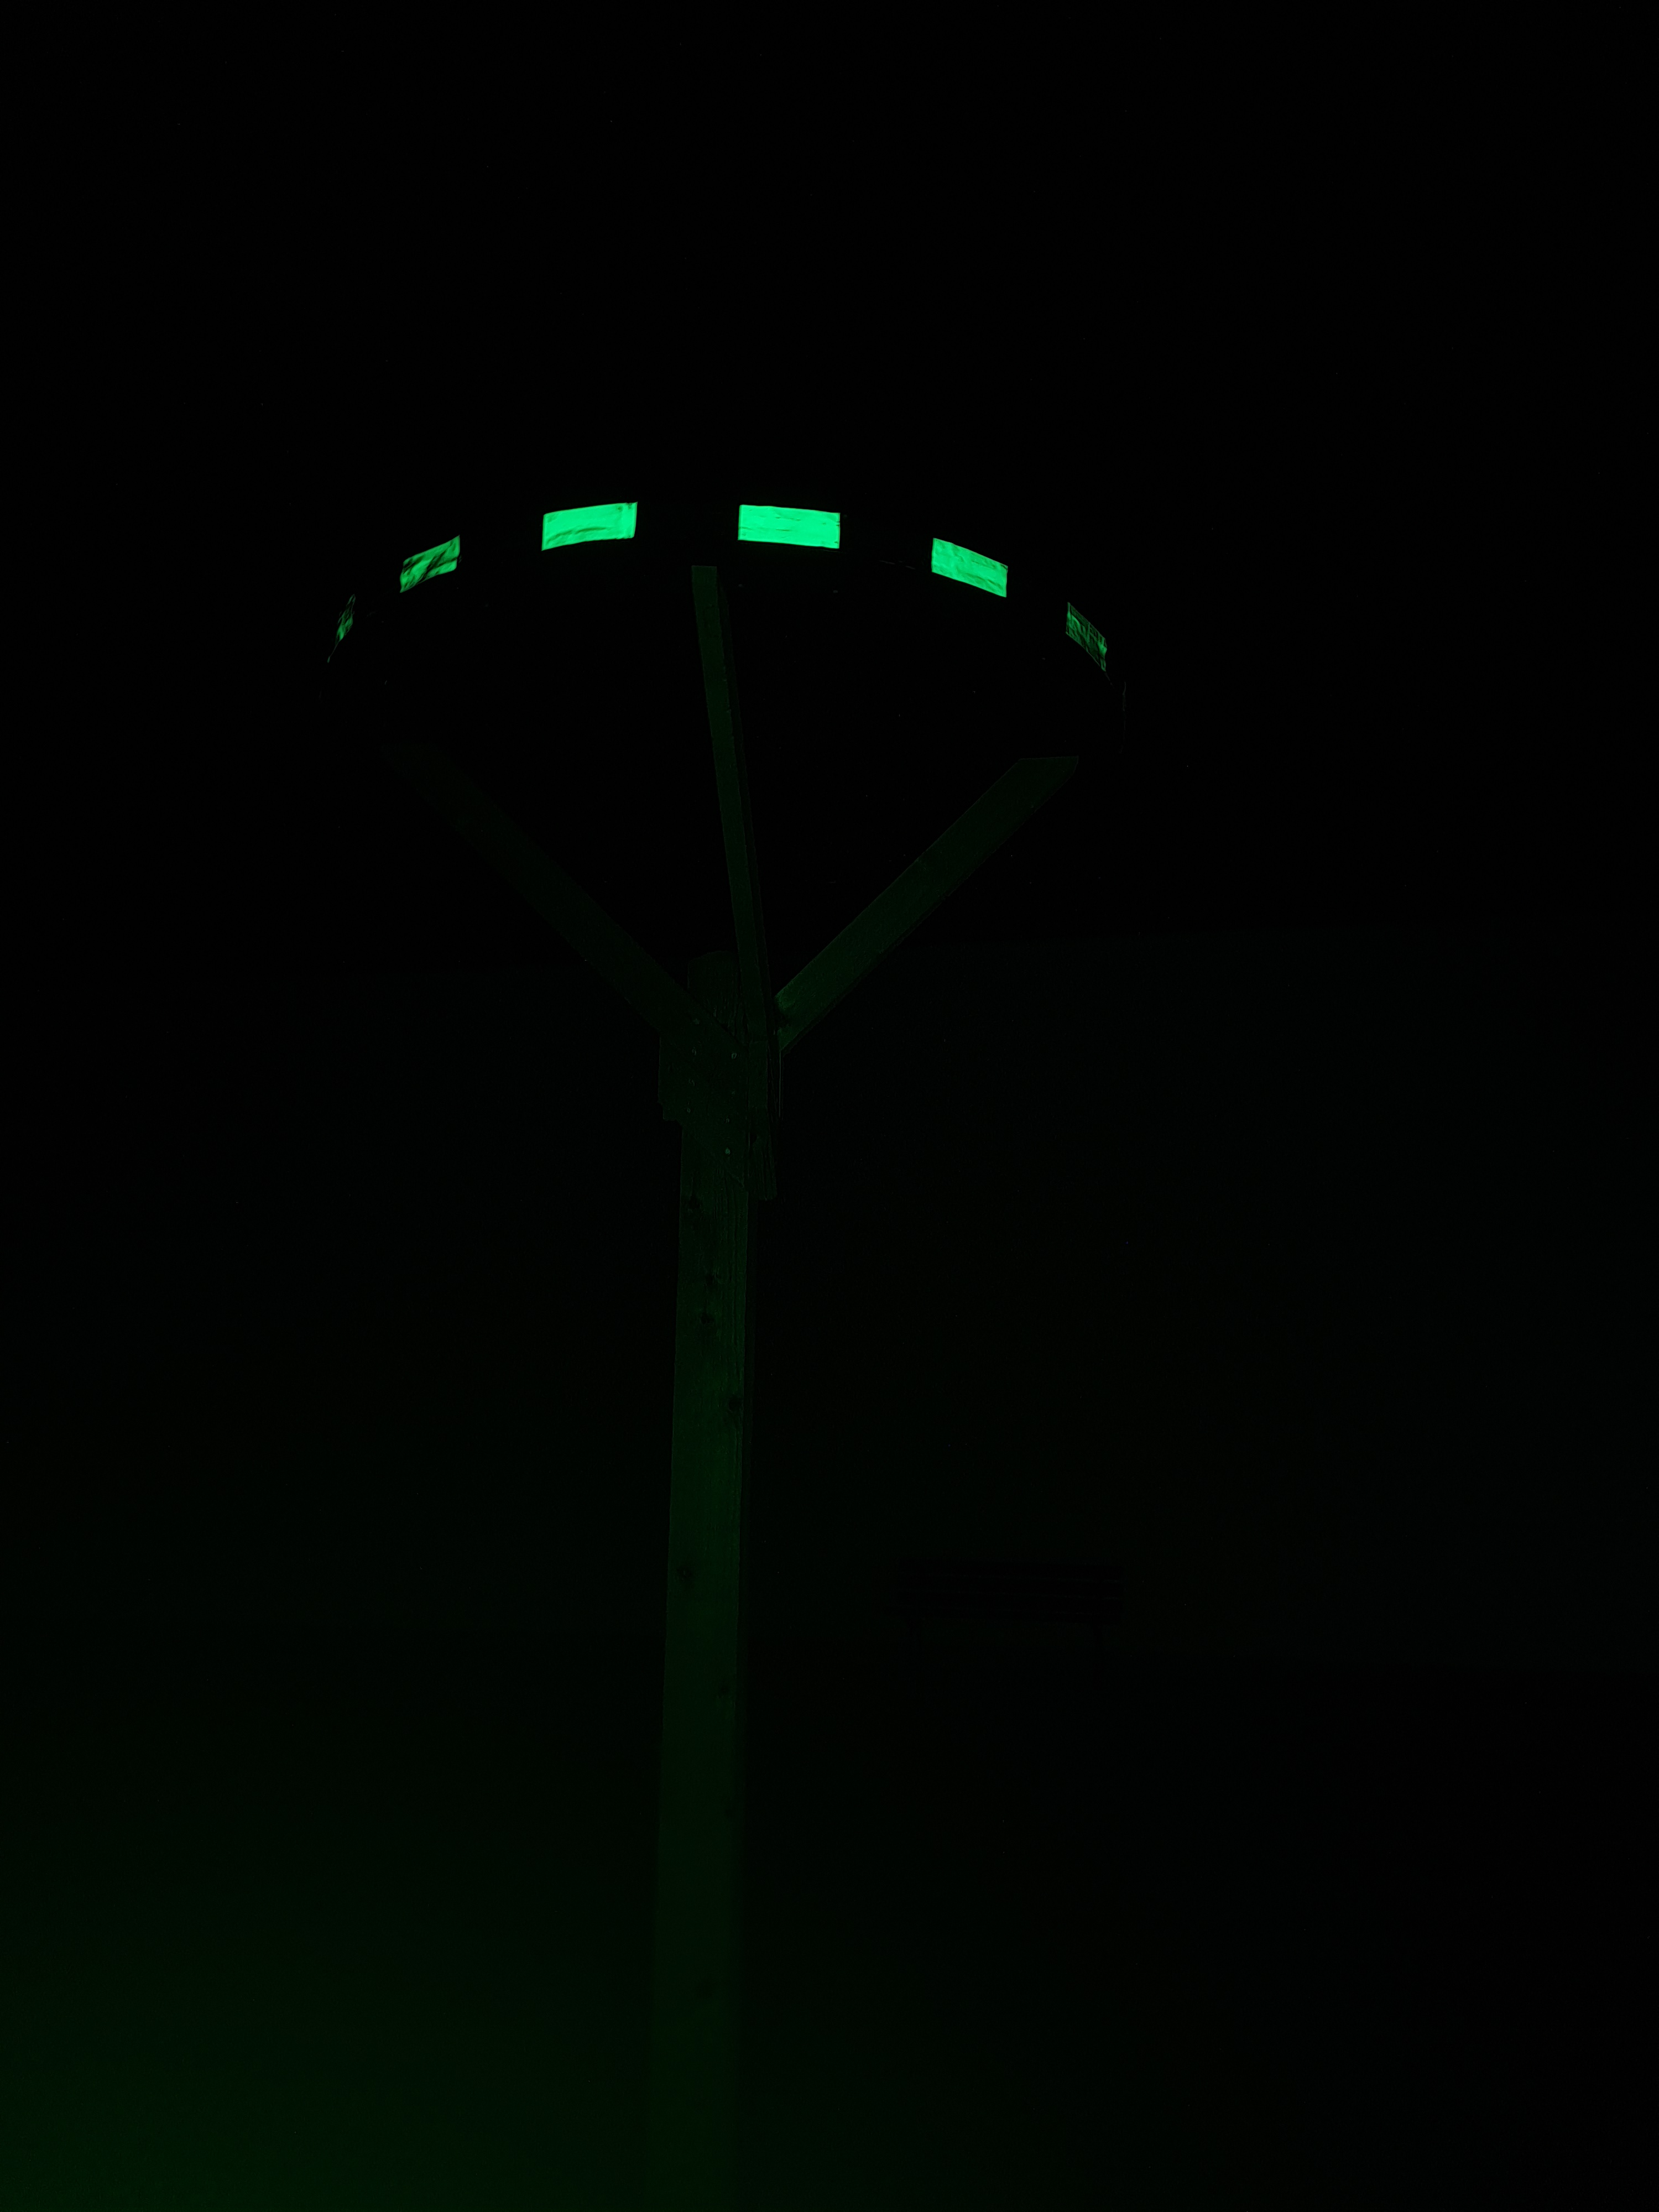hoop: (335, 486, 1110, 679)
